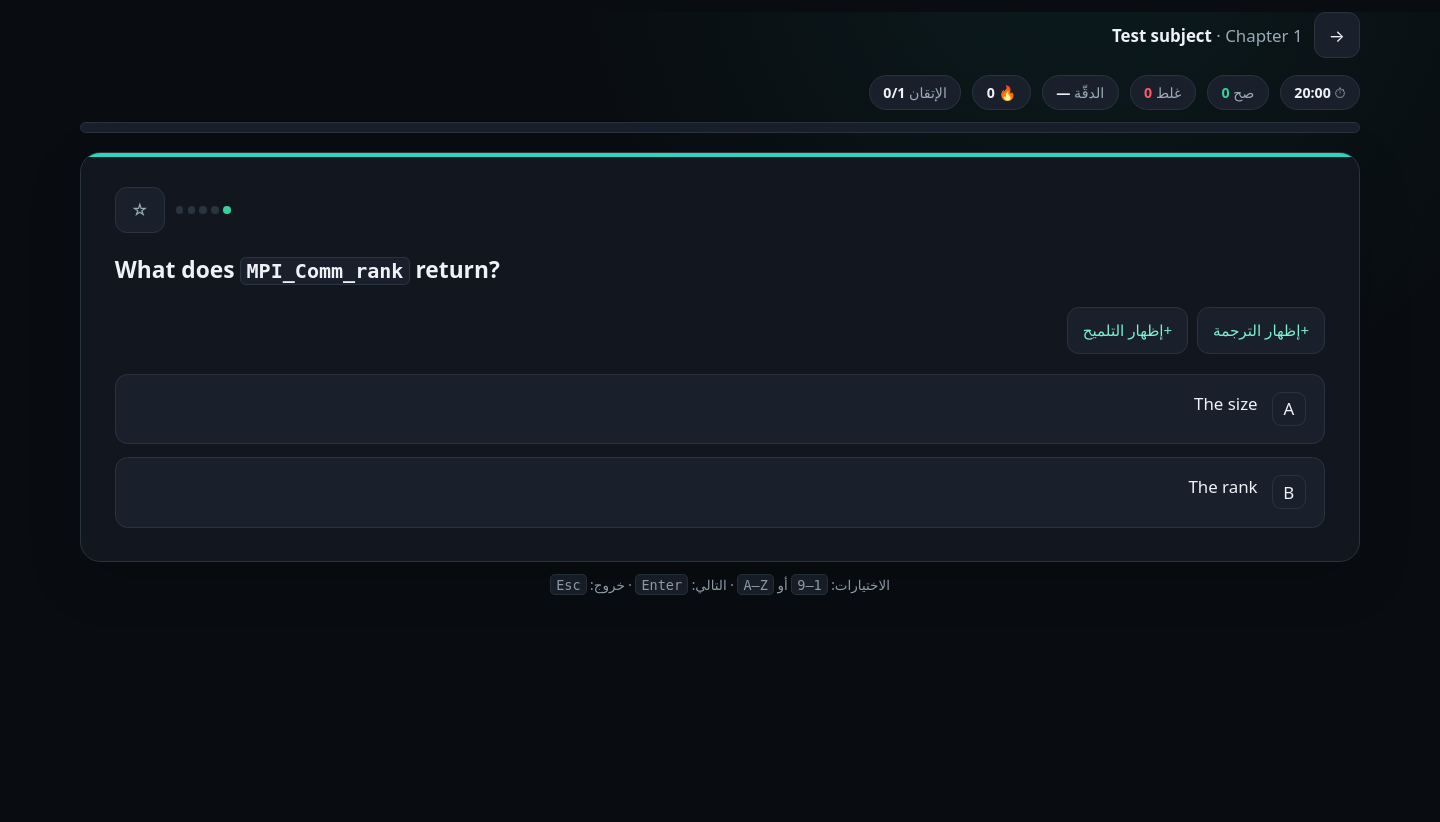
Test: keeps the Arabic translation and hint hidden until each one is requested
Expected: the text "فكّر في هوية العملية داخل communicator." is not shown
Click the button "+إظهار الترجمة" at point(1261, 330), box left=1197, top=307, right=1325, bottom=354
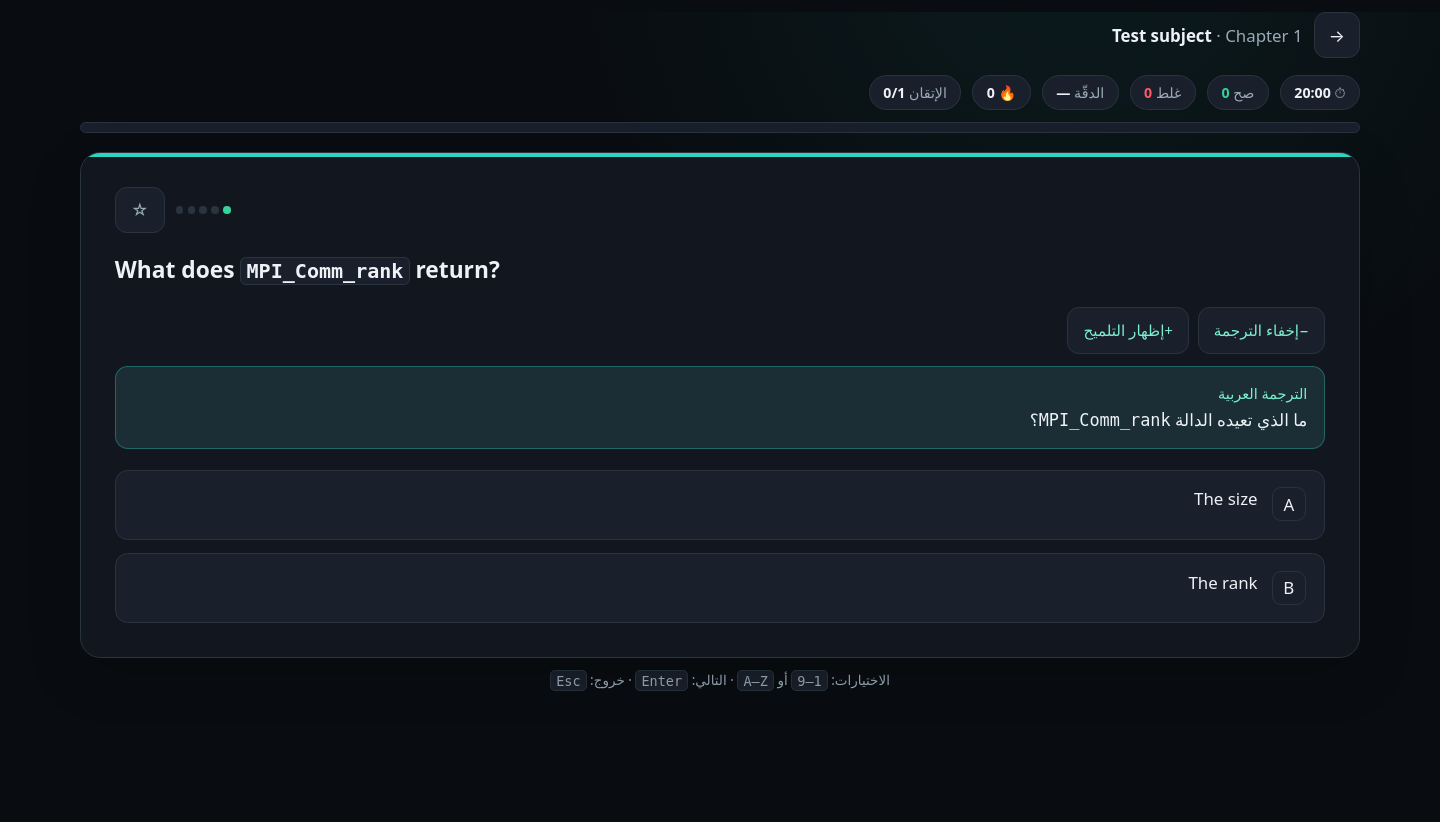
Expected: the text "فكّر في هوية العملية داخل communicator." is not shown
Now the text "الترجمة العربية" shows "ما الذي تعيده الدالة MPI_Comm_rank؟", box left=115, top=366, right=1325, bottom=449
Click the button "+إظهار التلميح" at point(1128, 330), box left=1067, top=307, right=1189, bottom=354
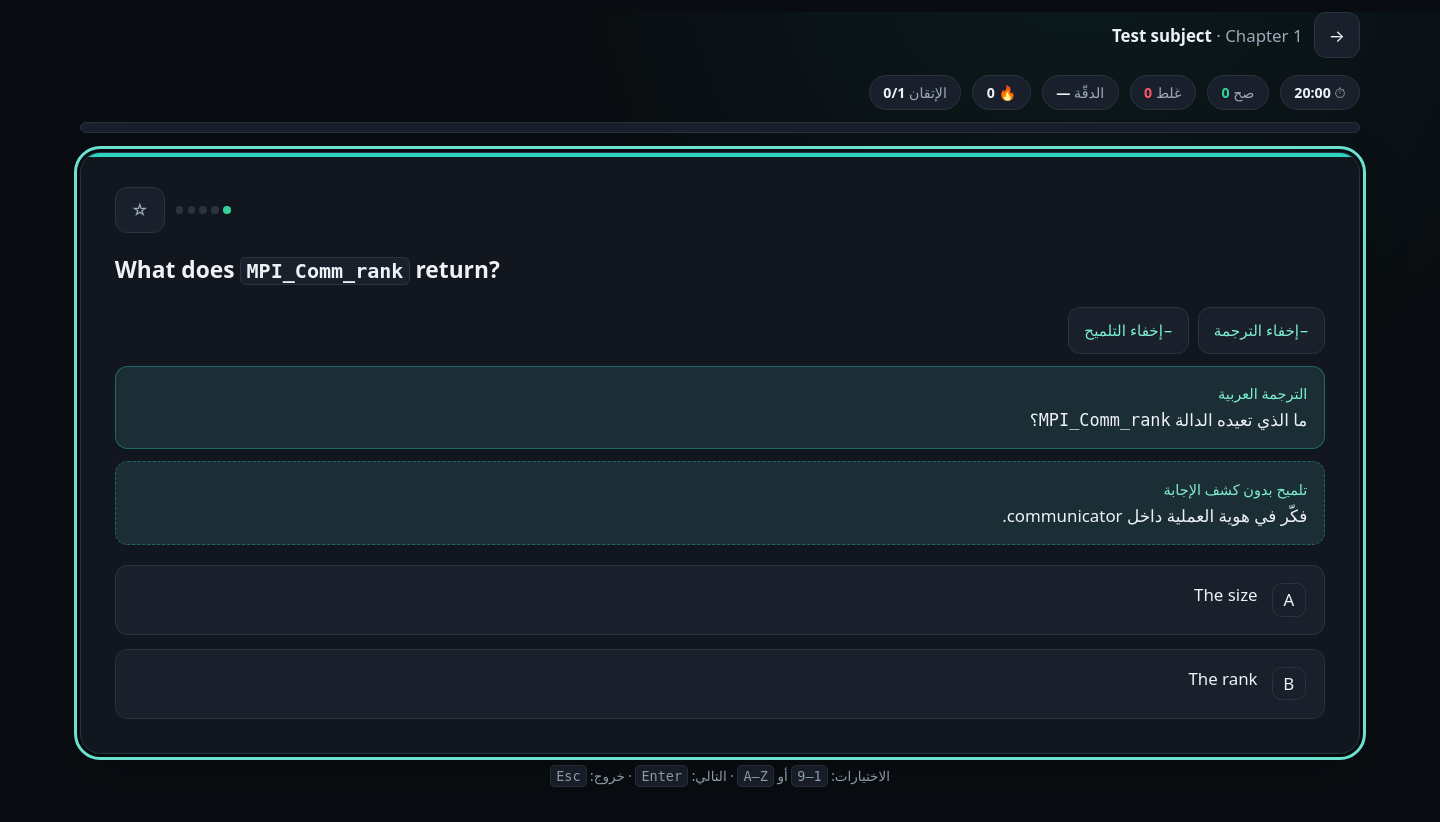
Now the text "تلميح بدون كشف الإجابة" shows "فكّر في هوية العملية داخل communicator.", box left=1002, top=504, right=1307, bottom=527
